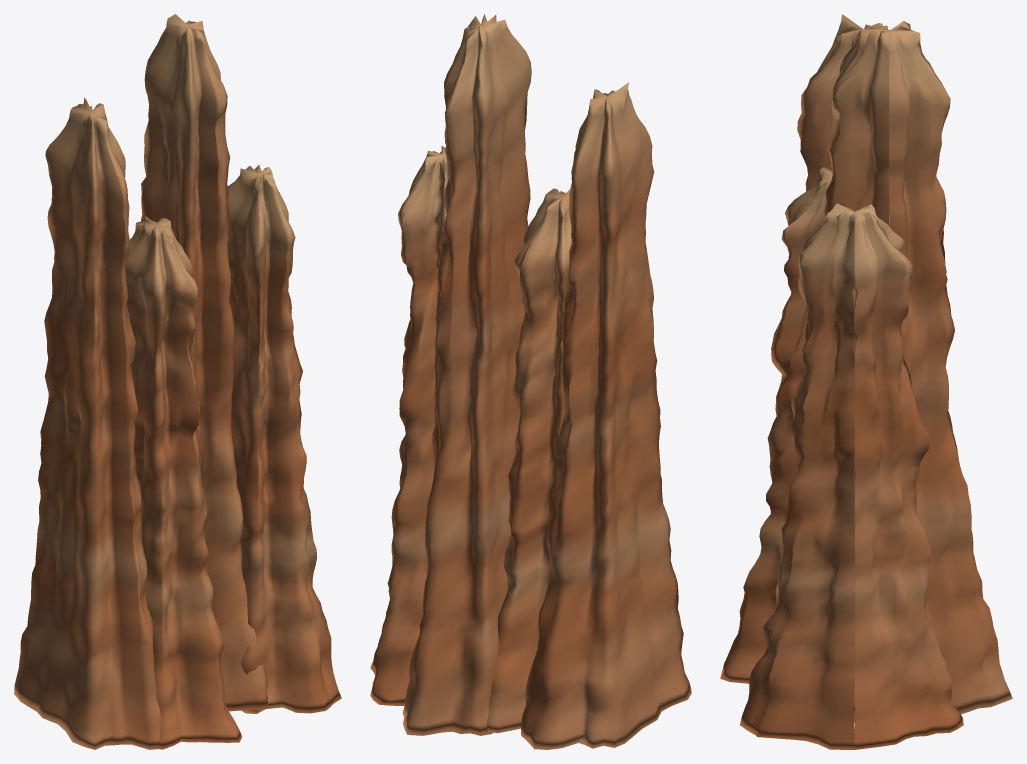
Rendered from hoodoo-fluted.glb.
3 views of the same model, side by side, from view 1: azimuth 30°, elevation 25°; view 2: azimuth 150°, elevation 25°; view 3: azimuth 270°, elevation 25° (orthographic). The views are drawn at different scales.
Parts seen in each view (by area): view 1: hoodoo-fluted; view 2: hoodoo-fluted; view 3: hoodoo-fluted.
Boxes of the visible parts, x1,y1,x2,y2 form: hoodoo-fluted: [14, 14, 341, 749]; hoodoo-fluted: [370, 14, 691, 749]; hoodoo-fluted: [720, 14, 1012, 749].
Size of the model in its own units: 18.45 by 42.54 by 16.79.
